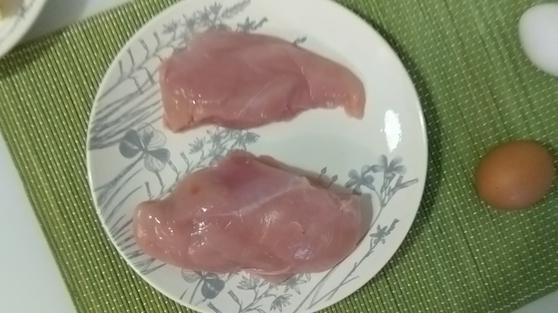chicken_fillet: (136, 150, 362, 276), (159, 26, 367, 132)
egg: (473, 139, 556, 210), (516, 2, 558, 74)
